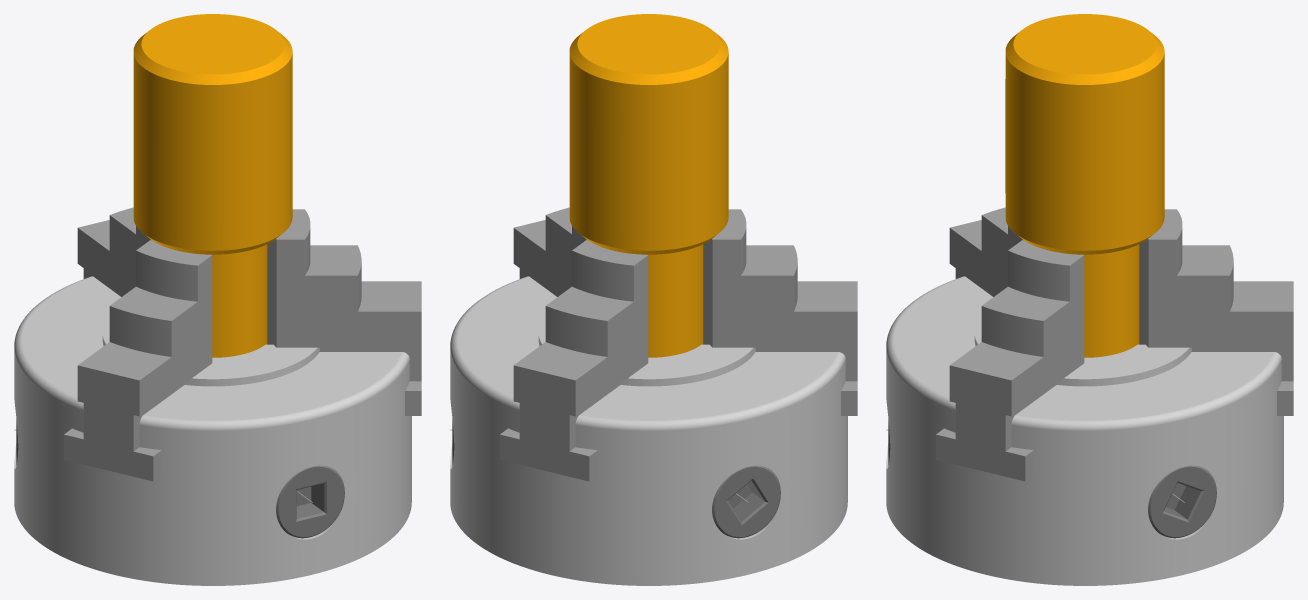
The picture shows the model from 3 angles, left to right: view 1: azimuth 30°, elevation 25°; view 2: azimuth 150°, elevation 25°; view 3: azimuth 270°, elevation 25°; orthographic projection.
Visible parts, largest first — view 1: com_peca; view 2: com_peca; view 3: com_peca.
Boxes of the visible parts, <box> form: com_peca: <box>14,14,421,585</box>; com_peca: <box>450,14,857,585</box>; com_peca: <box>886,14,1293,585</box>.
Bounding box in the file's own units: 4.51 × 5.73 × 4.45.
